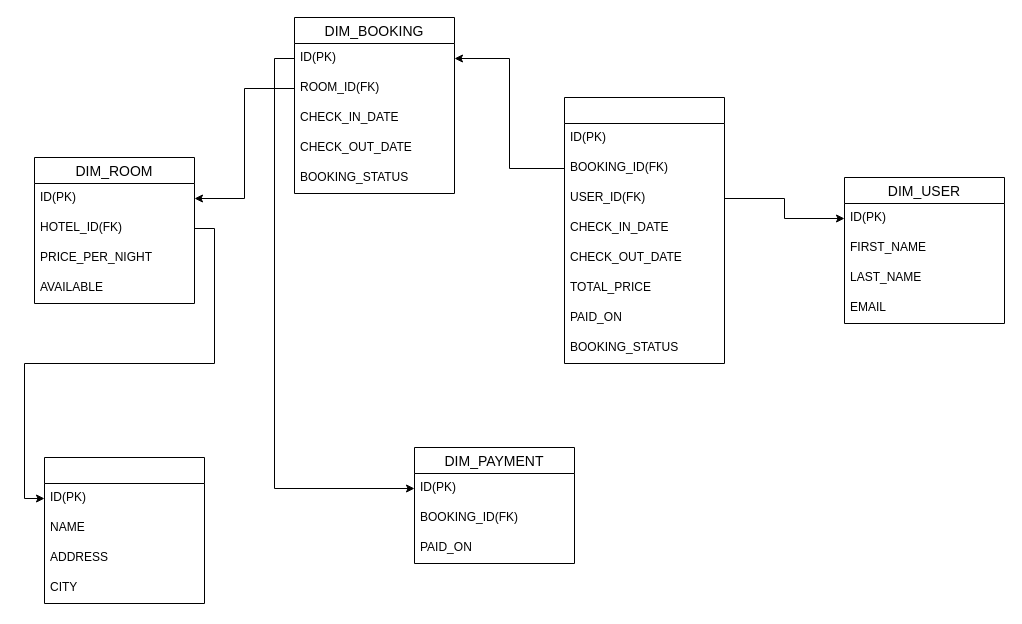
This 1022x624 diagram has some shape labels left out. The box of each missing label's shape, as (x1, y1, x2, y2) in pixels:
DIM_HOTEL: (44, 456, 204, 604)
FACT_BOOKING_MADE: (564, 96, 724, 364)
